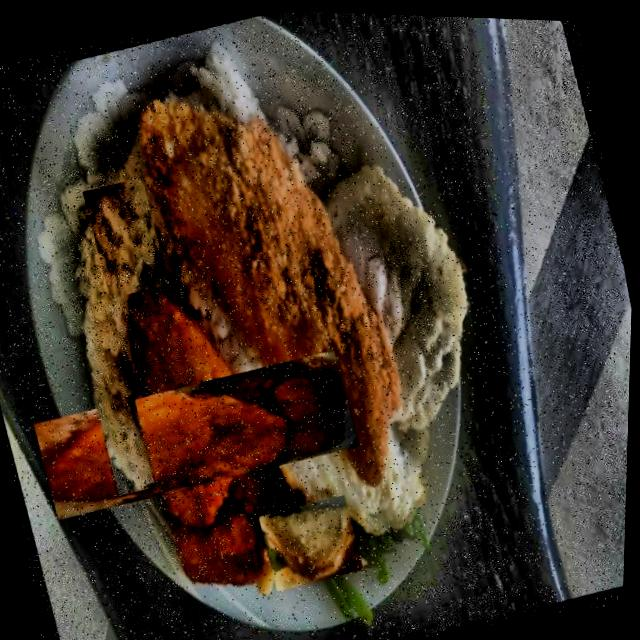Food: (116, 46, 436, 529), (66, 299, 332, 567), (48, 225, 165, 499), (80, 172, 175, 301), (258, 487, 370, 593)
